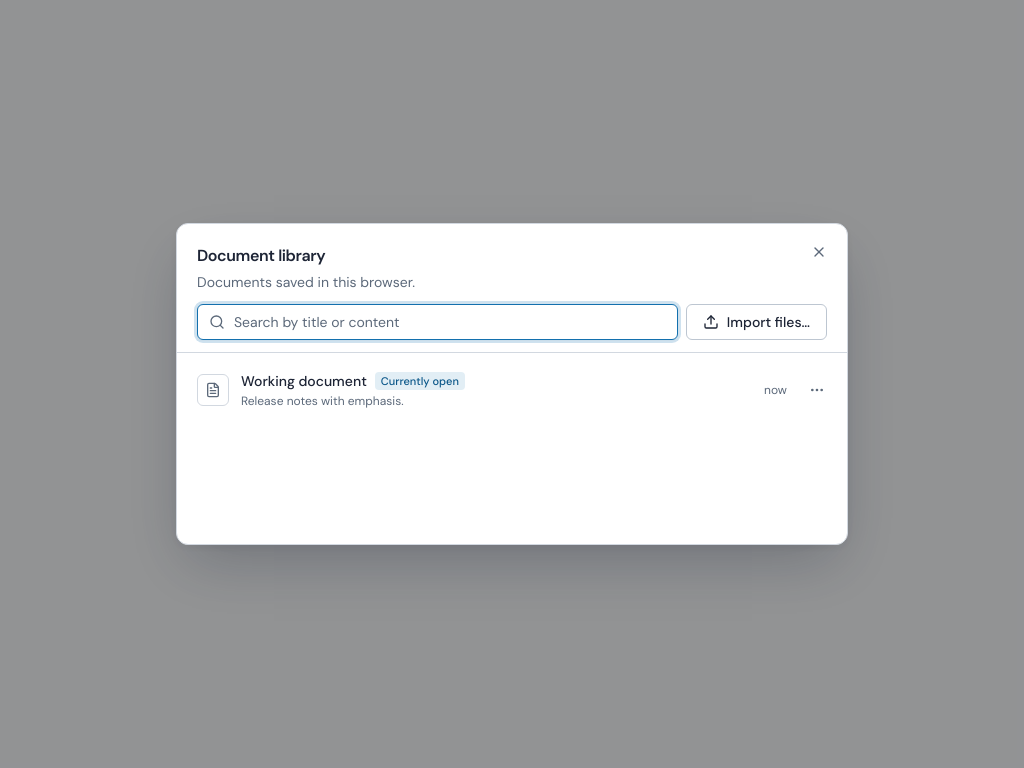
document library text search › preserves word boundaries between blocks without searching markup
Type "Release notes" into the field named "Search saved documents" at (437, 322), box top-left (197, 304), bottom-right (678, 340)
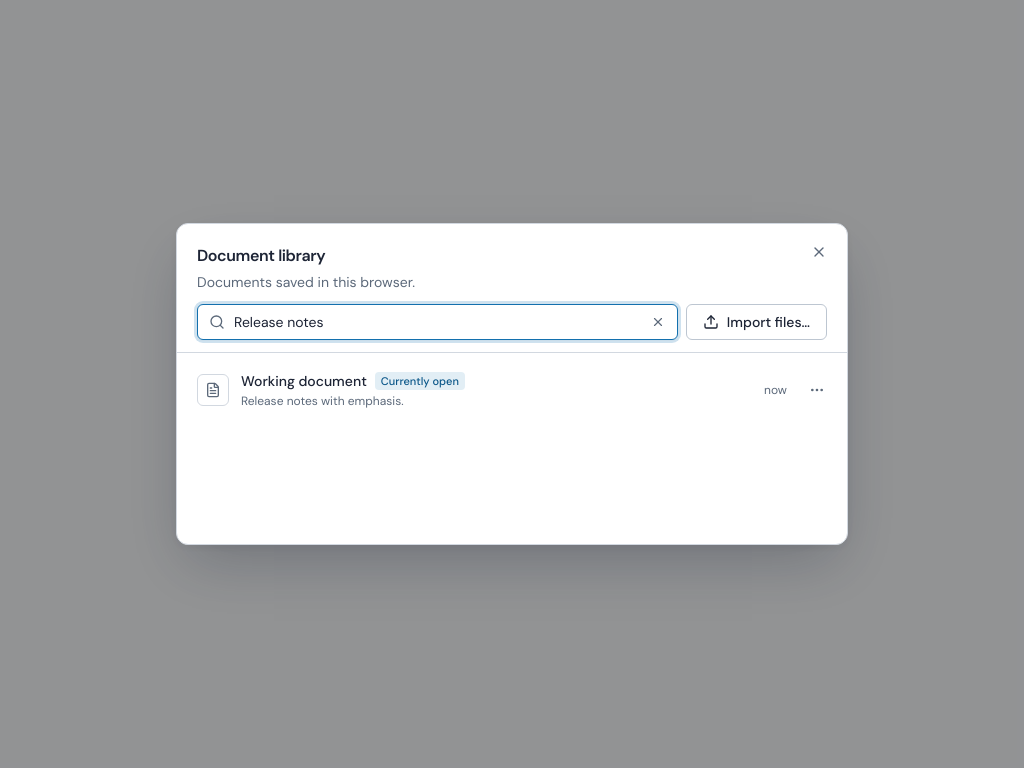
Expected: the button "Working document" shows "Release notes with emphasis.", top-left (189, 361), bottom-right (795, 419)
Replace the text in the field named "Search saved documents" with "<h2>" at (437, 322), box top-left (197, 304), bottom-right (678, 340)
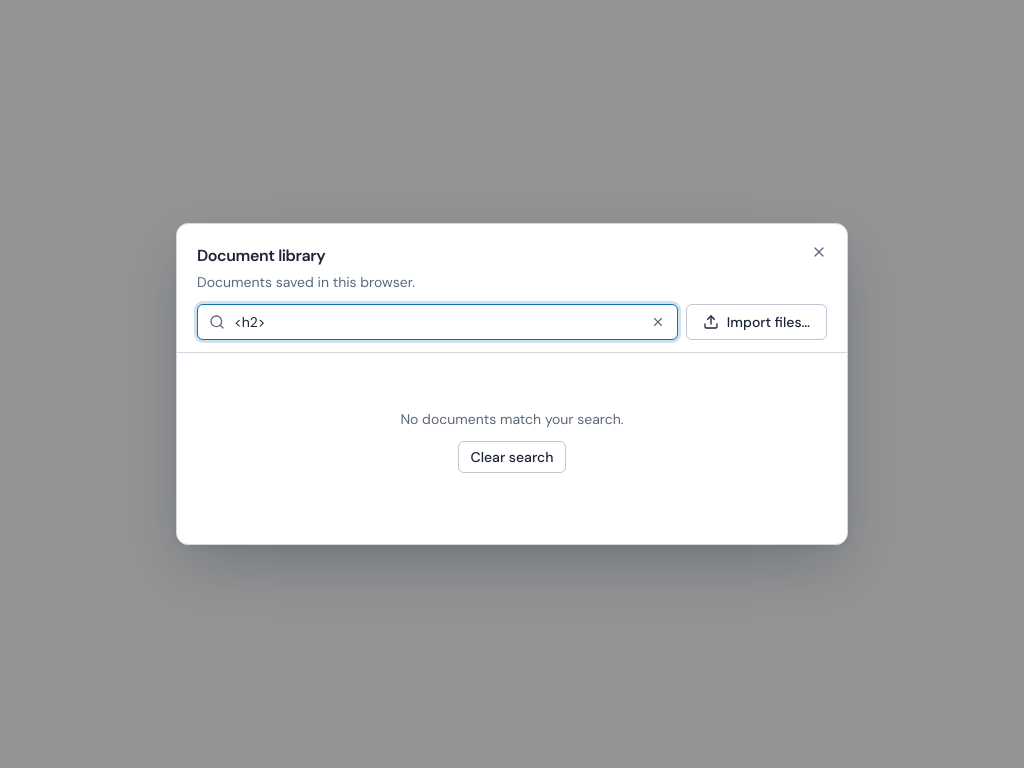
Result: the text "No documents match your search." is shown at top-left (400, 409), bottom-right (624, 429)
